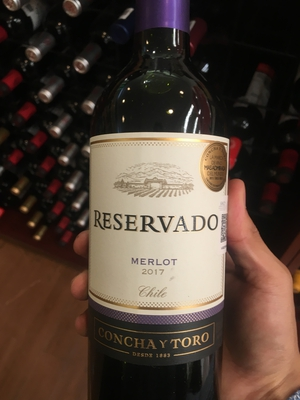reservado merlot: (78, 11, 243, 400)
